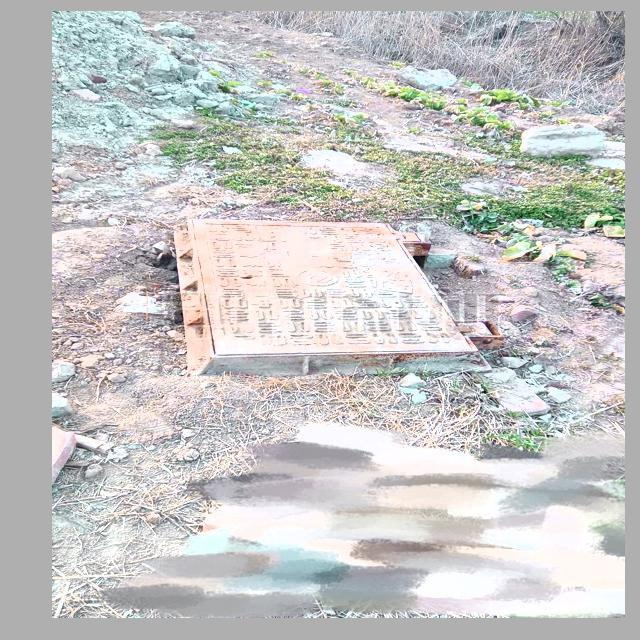circle: (162, 214, 505, 379)
